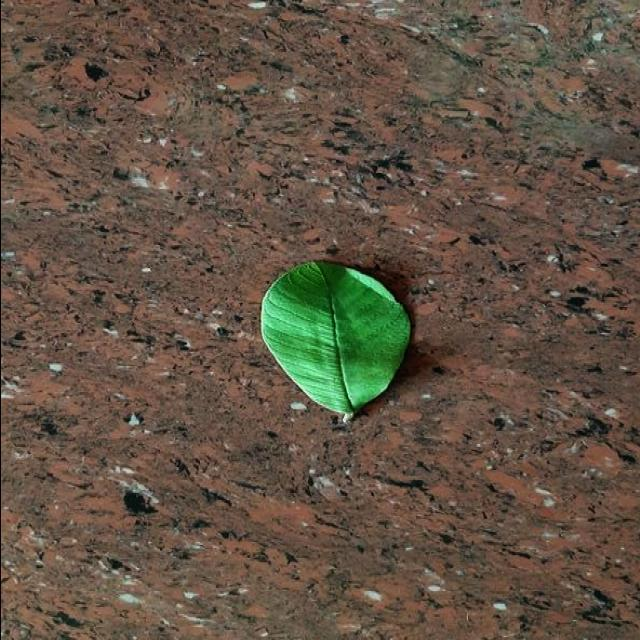leaf: (259, 259, 411, 421)
